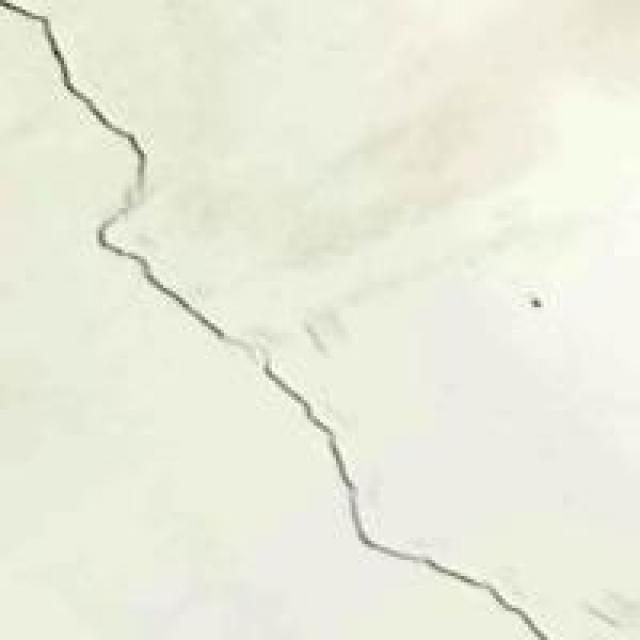crack: (3, 9, 550, 636)
